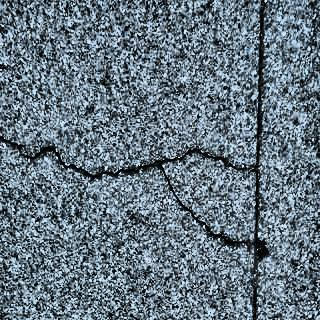crack: (0, 131, 253, 184), (155, 165, 255, 252)
